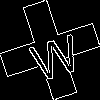W: (25, 25, 84, 83)
